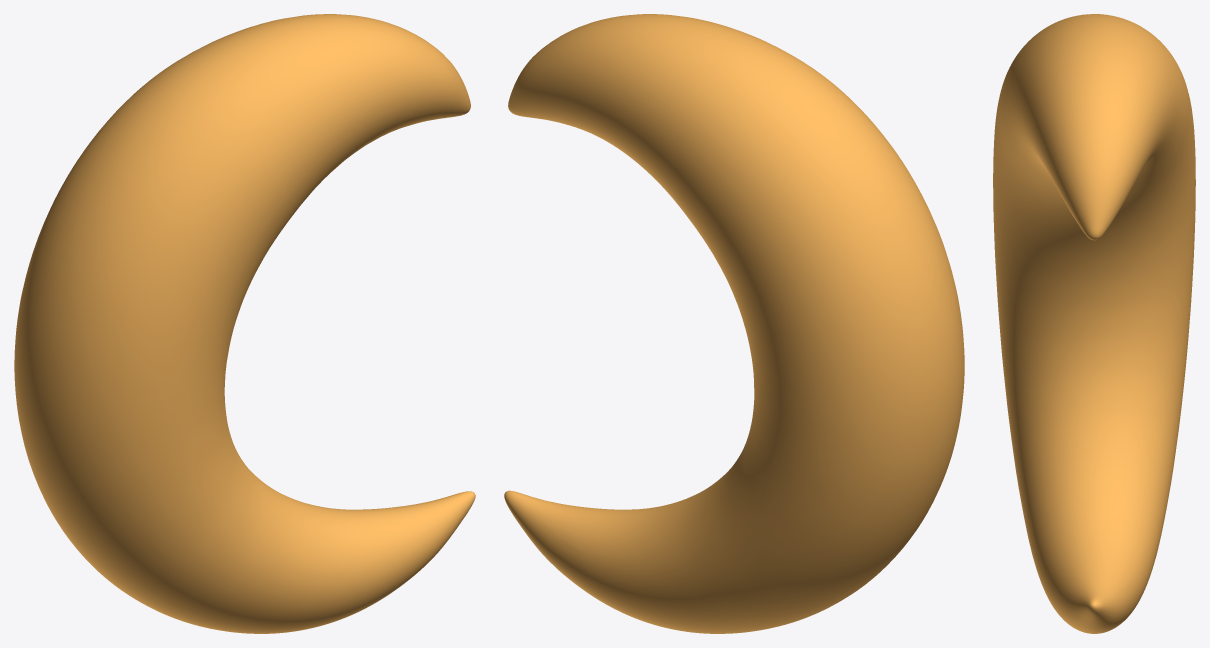
Rendered from moon.glb.
3 views of the same model, side by side, from view 1: azimuth 30°, elevation 25°; view 2: azimuth 150°, elevation 25°; view 3: azimuth 270°, elevation 25° (orthographic). The views are drawn at different scales.
Visible parts, largest first — view 1: NurbsPath; view 2: NurbsPath; view 3: NurbsPath.
Part boxes in pixels (bbox=[...]): NurbsPath: bbox=[14, 14, 475, 633]; NurbsPath: bbox=[504, 14, 964, 633]; NurbsPath: bbox=[993, 14, 1195, 633].
Size of the model in its own units: 1.52 by 1.95 by 0.6323.
